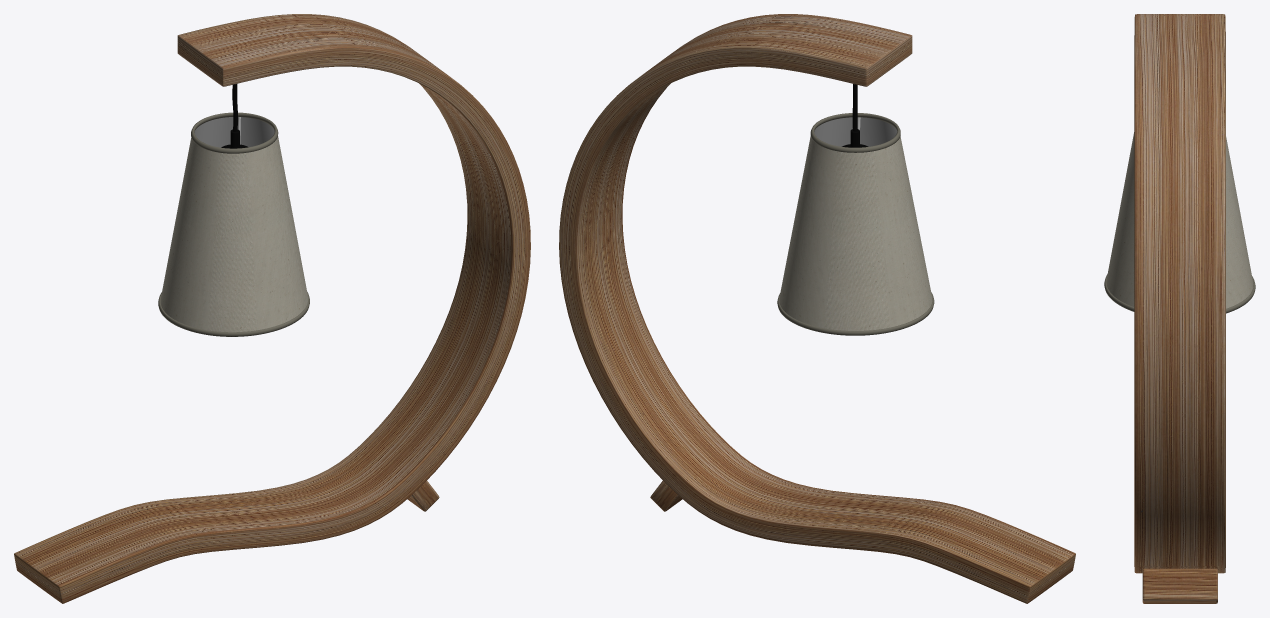
Rendered from Tret030.FBX.
3 renders of one model, left to right at view 1: azimuth 30°, elevation 25°; view 2: azimuth 150°, elevation 25°; view 3: azimuth 270°, elevation 25°, orthographic.
Parts seen in each view (by area): view 1: Tret030_MainBody, Tret030_LampShadeNew002, Tret030_Border, Tret030_LampShadeInterior002; view 2: Tret030_MainBody, Tret030_LampShadeNew002, Tret030_Border, Tret030_LampShadeInterior002; view 3: Tret030_MainBody, Tret030_LampShadeNew002, Tret030_Base, Tret030_Border.
Boxes of the visible parts, x1=… form: Tret030_MainBody: x1=14, y1=14, x2=530, y2=603; Tret030_LampShadeNew002: x1=160, y1=136, x2=308, y2=332; Tret030_Border: x1=158, y1=112, x2=309, y2=336; Tret030_LampShadeInterior002: x1=194, y1=117, x2=274, y2=147; Tret030_MainBody: x1=559, y1=14, x2=1075, y2=603; Tret030_LampShadeNew002: x1=779, y1=136, x2=932, y2=330; Tret030_Border: x1=777, y1=113, x2=934, y2=335; Tret030_LampShadeInterior002: x1=814, y1=117, x2=897, y2=146; Tret030_MainBody: x1=1134, y1=14, x2=1225, y2=573; Tret030_LampShadeNew002: x1=1106, y1=132, x2=1253, y2=308; Tret030_Base: x1=1142, y1=568, x2=1217, y2=603; Tret030_Border: x1=1104, y1=274, x2=1255, y2=313.
Bounding box in the file's own units: 0.5003 × 0.1407 × 0.5036.
